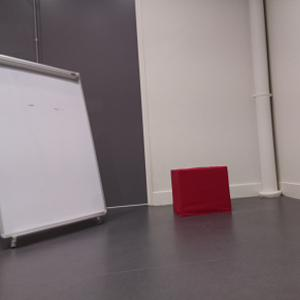big: (1, 59, 107, 245)
medium: (171, 165, 231, 216)
